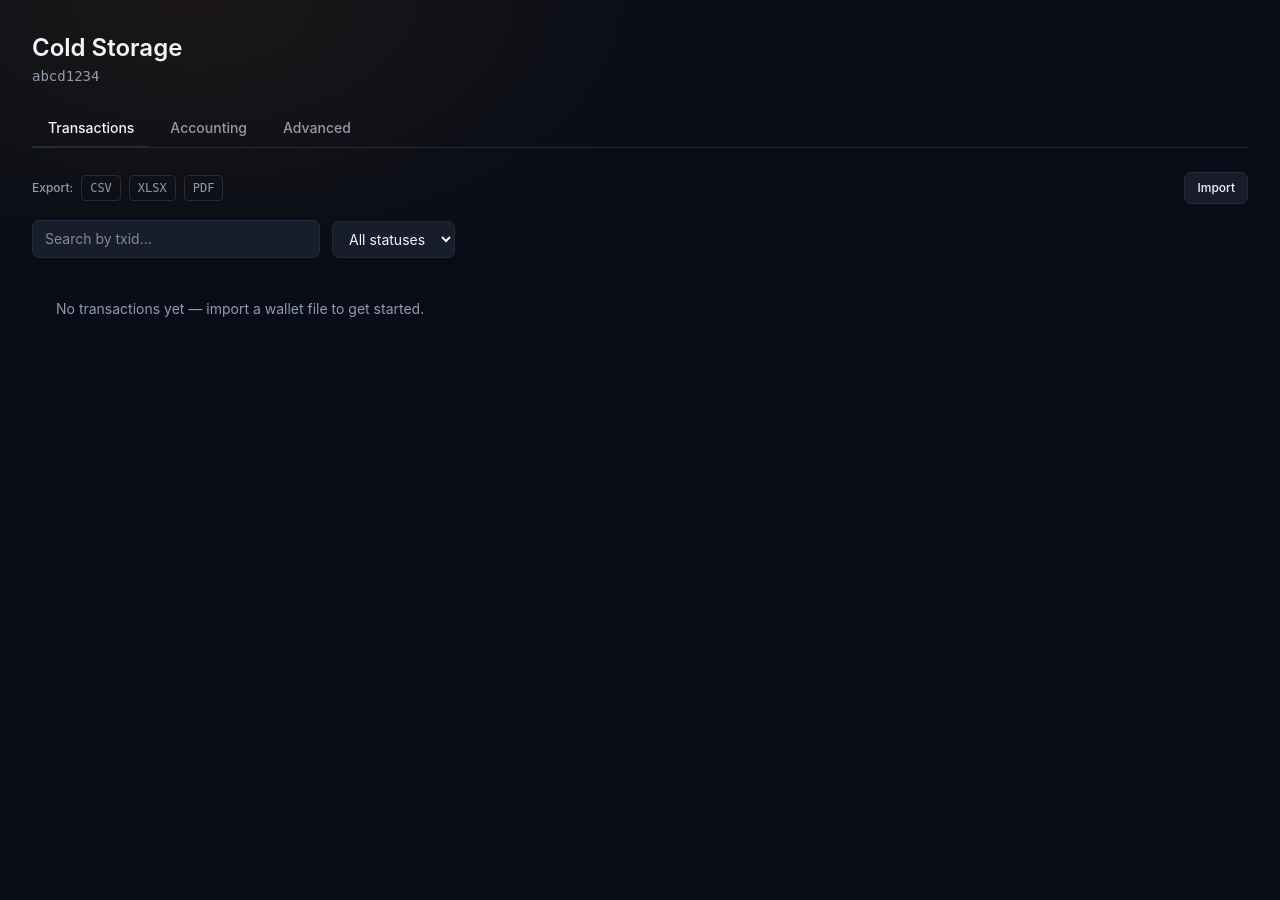
WalletPage › lists existing import jobs on the Import tab
Click the button "Import" at (1216, 188), box [1184,172,1248,204]
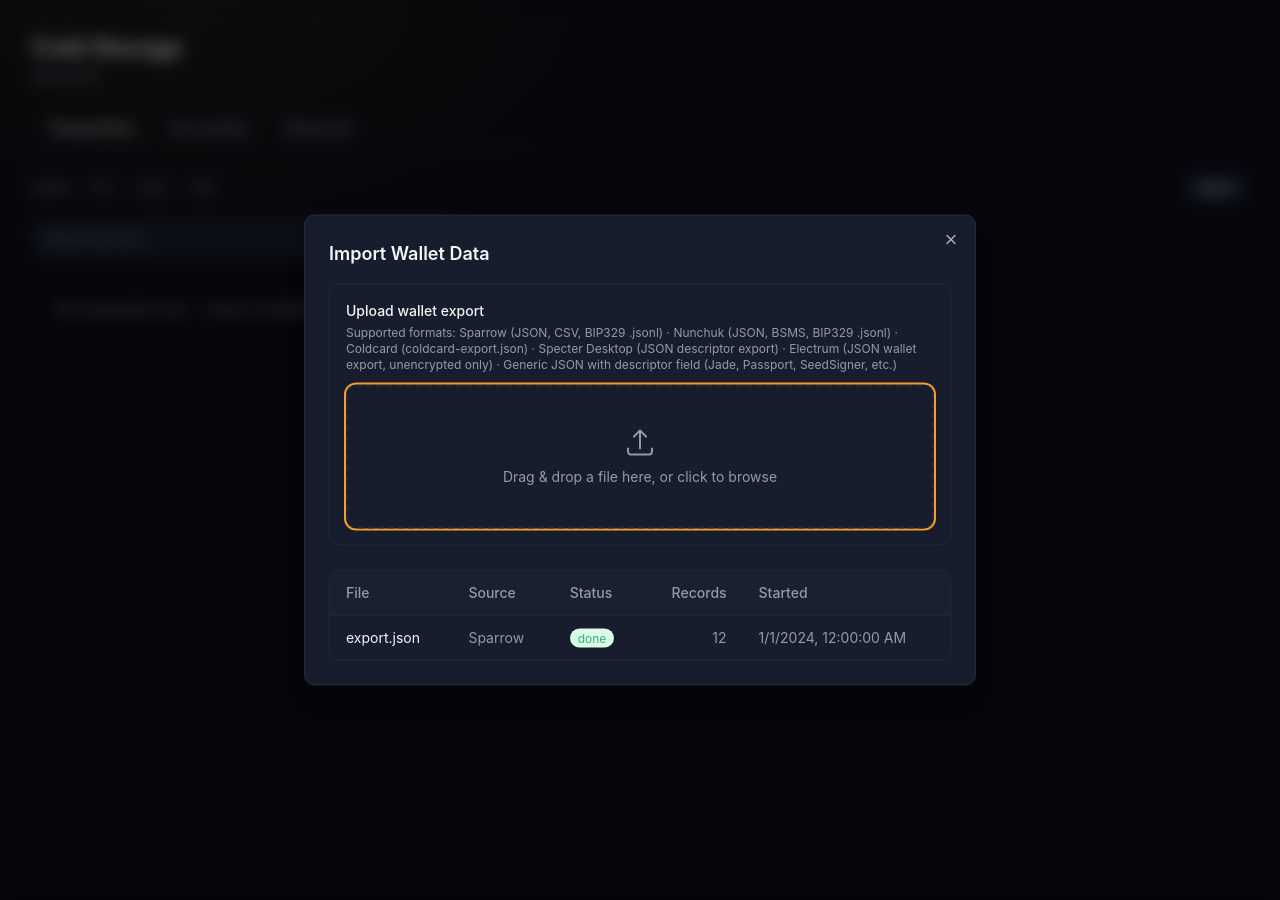
Expected: the text "export.json" is shown, [330,615,452,660]
Expected: the text "done" is shown, [570,628,614,648]
